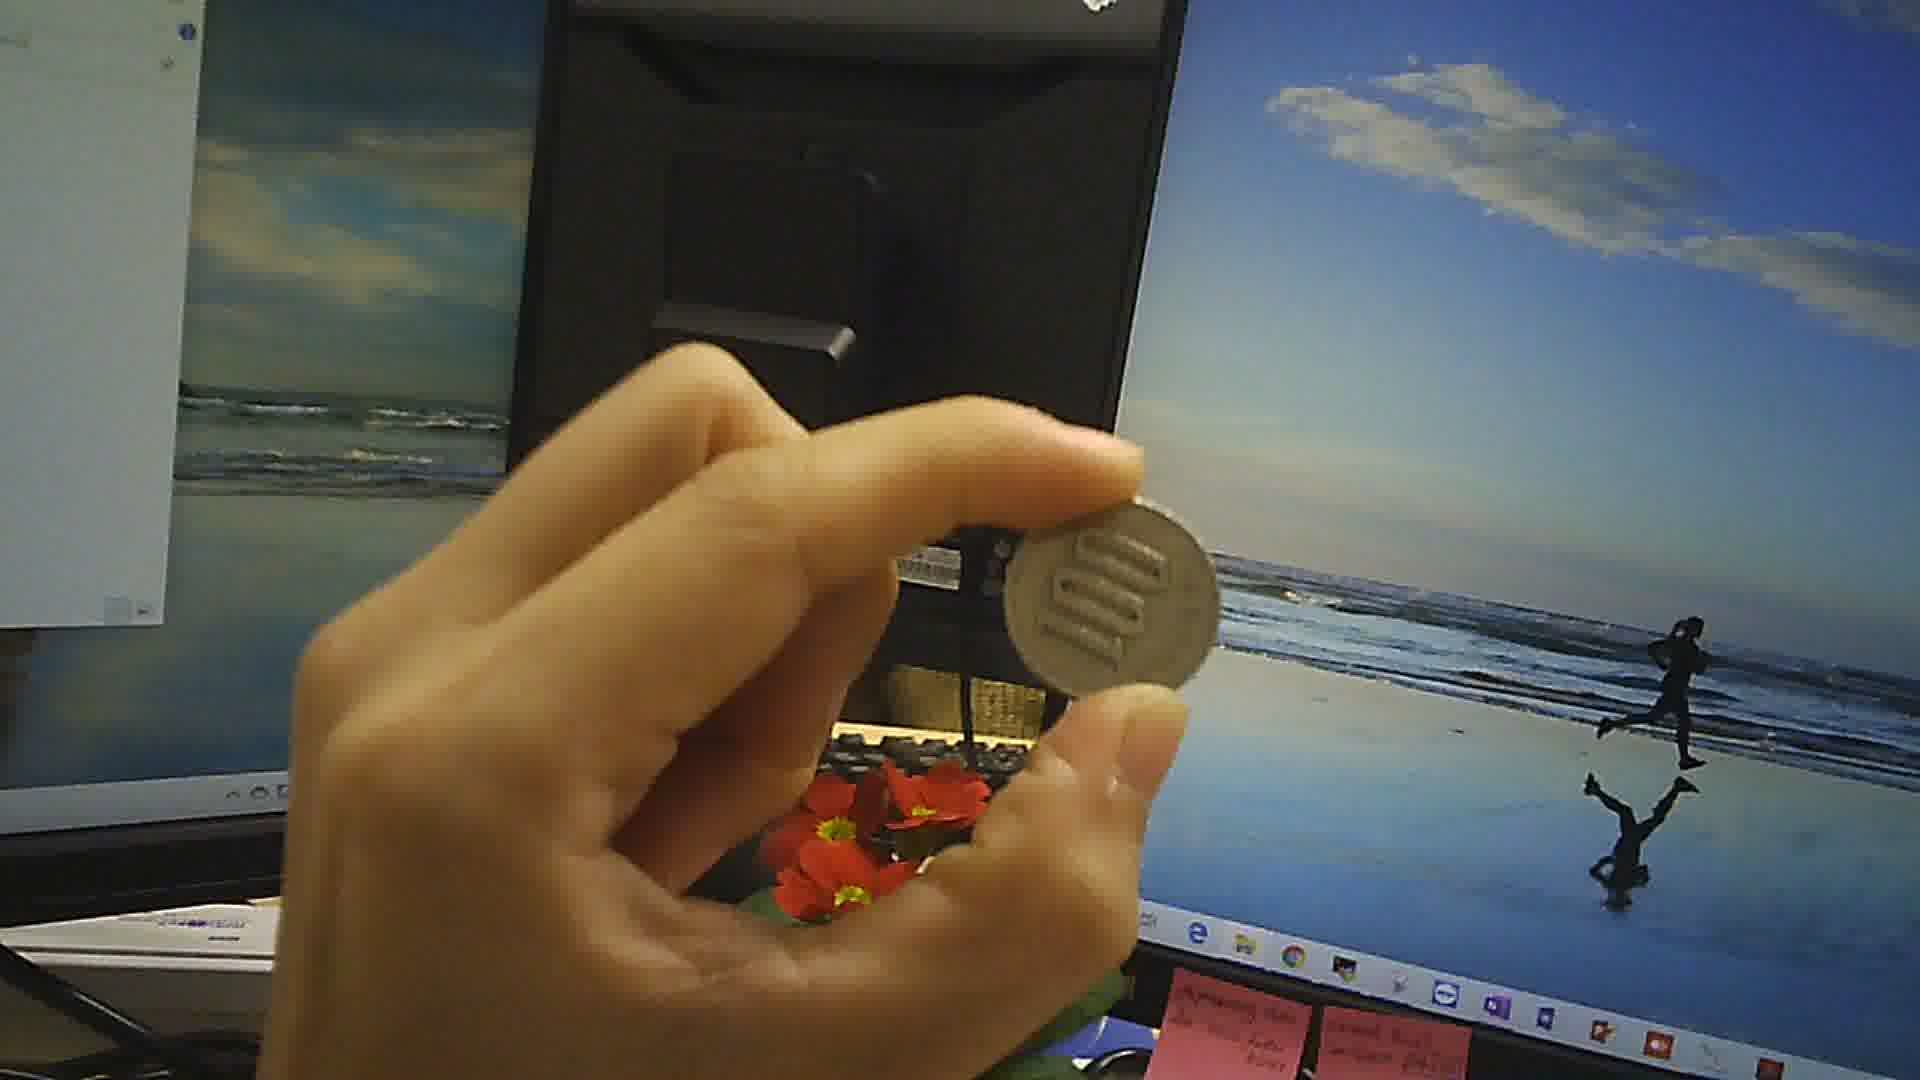100 Yen: (1002, 489, 1232, 698)
